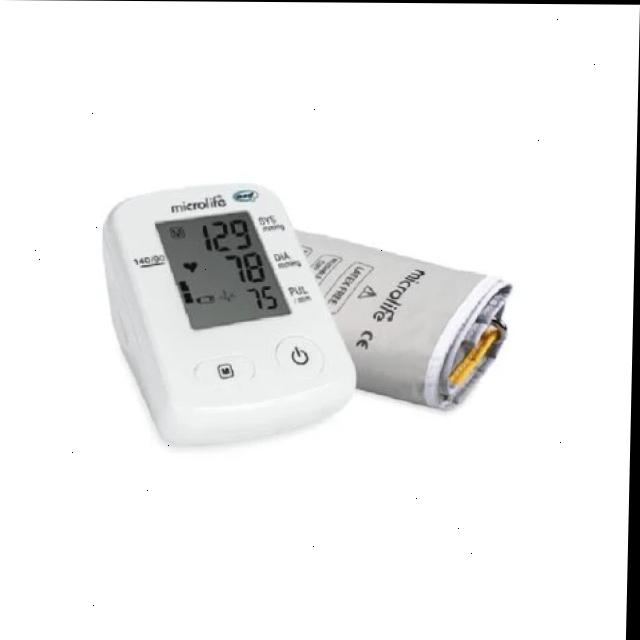dia: (219, 242, 281, 289)
pul: (241, 279, 294, 316)
ssd: (157, 201, 294, 334)
sys: (196, 206, 260, 256)
